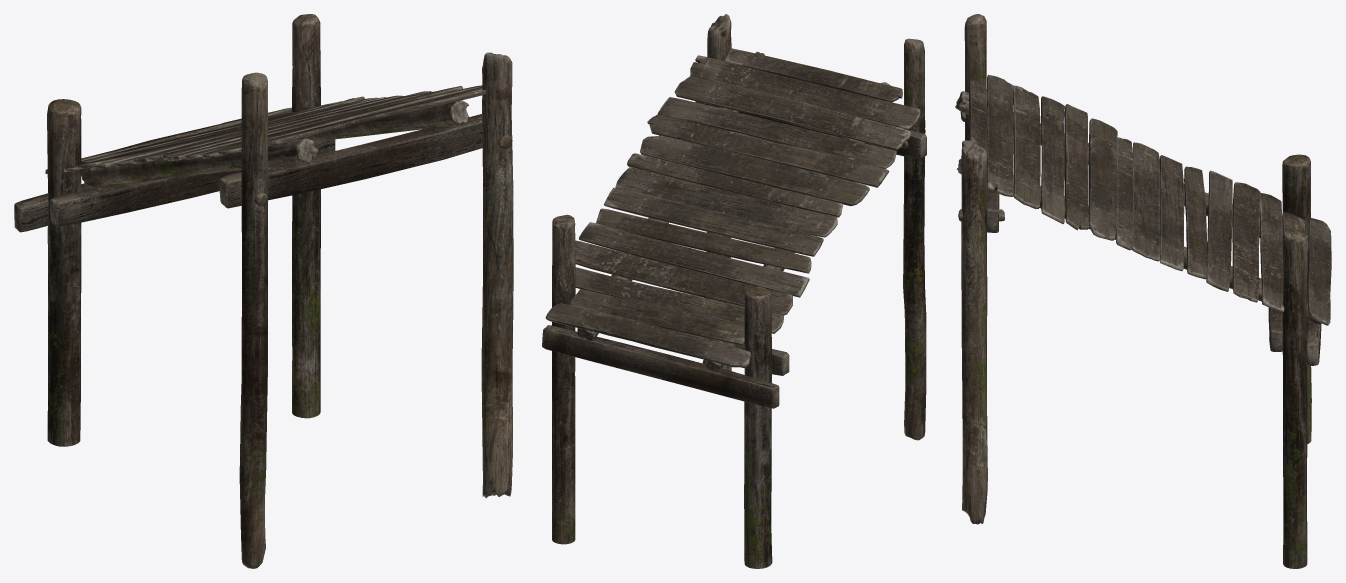
File: modular_wooden_pier_section_04.gltf
3 views of the same model, side by side, from view 1: azimuth 30°, elevation 25°; view 2: azimuth 150°, elevation 25°; view 3: azimuth 270°, elevation 25° (orthographic). The views are drawn at different scales.
Visible parts, largest first — view 1: modular_wooden_pier_section_04__x; view 2: modular_wooden_pier_section_04__x; view 3: modular_wooden_pier_section_04__x.
Part boxes in pixels (box(x1,y1,x2,y2)): modular_wooden_pier_section_04__x: box(14, 14, 513, 568); modular_wooden_pier_section_04__x: box(542, 14, 926, 568); modular_wooden_pier_section_04__x: box(955, 14, 1331, 568).
Size of the model in its own units: 2.46 by 4.16 by 3.16.
2 materials, 2 textured.
